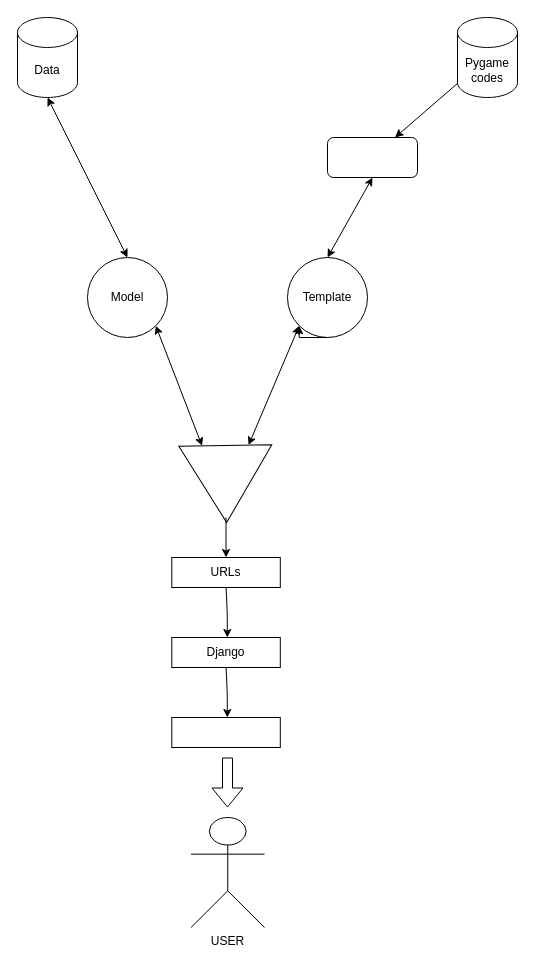
This 535x966 diagram has some shape labels left out. The shapes that lost their labels are listed below. From the top down, each one's centre as x and y in pixels, then its label:
At [372,157]: "IDE".
At [225,483]: "VIEWS".
At [225,732]: "Web Browser".
